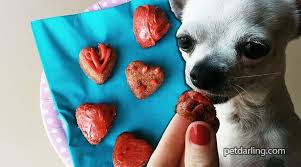chihuahua: (165, 1, 299, 167)
